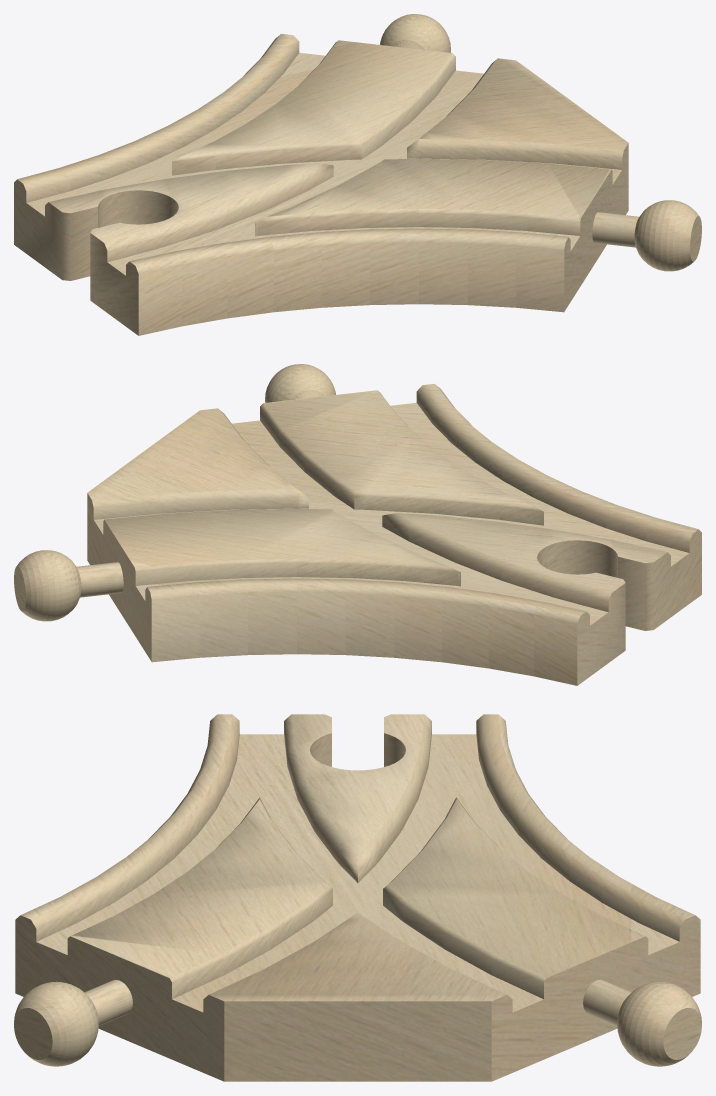
3 renders of one model, top to bottom at view 1: azimuth 30°, elevation 25°; view 2: azimuth 150°, elevation 25°; view 3: azimuth 270°, elevation 25°, orthographic. The views are drawn at different scales.
Parts seen in each view (by area): view 1: SketchUp, _3d_peg (×2); view 2: SketchUp, _3d_peg (×2); view 3: SketchUp, _3d_peg (×2).
Boxes of the visible parts, left/top/right/bottom form: SketchUp: left=14, top=33, right=628, bottom=335; _3d_peg (×2): left=380, top=14, right=701, bottom=271; SketchUp: left=87, top=383, right=701, bottom=685; _3d_peg (×2): left=14, top=364, right=335, bottom=621; SketchUp: left=15, top=714, right=700, bottom=1081; _3d_peg (×2): left=14, top=979, right=701, bottom=1066.
Size of the model in its own units: 3.63 by 3.66 by 0.4724.
